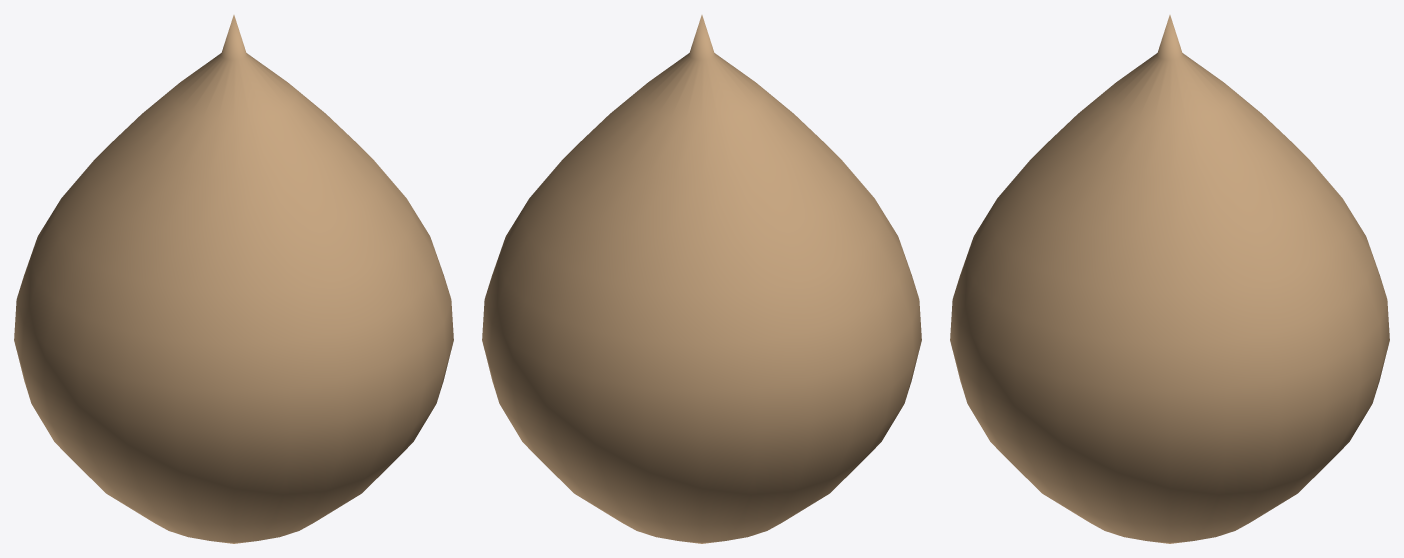
The model's file is SpotlightTulip_Bulb.fbx.
3 views of the same model, side by side, from view 1: azimuth 30°, elevation 25°; view 2: azimuth 150°, elevation 25°; view 3: azimuth 270°, elevation 25° (orthographic).
Visible parts, largest first — view 1: SpotlightTulip_Bulb; view 2: SpotlightTulip_Bulb; view 3: SpotlightTulip_Bulb.
Part boxes in pixels (x1=…): SpotlightTulip_Bulb: x1=14, y1=15, x2=453, y2=543; SpotlightTulip_Bulb: x1=482, y1=15, x2=921, y2=543; SpotlightTulip_Bulb: x1=950, y1=15, x2=1389, y2=543.
Bounding box in the file's own units: 0.6984 × 0.9286 × 0.6984.
